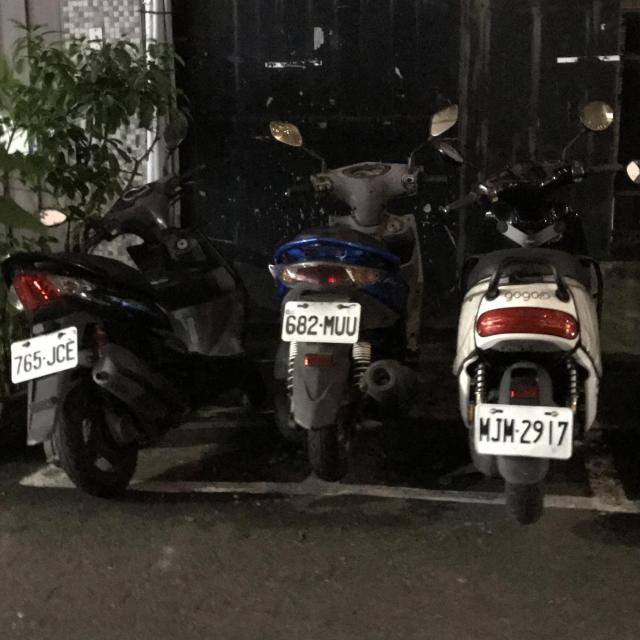W: (471, 398, 575, 463), (5, 316, 85, 392), (276, 293, 364, 348)
